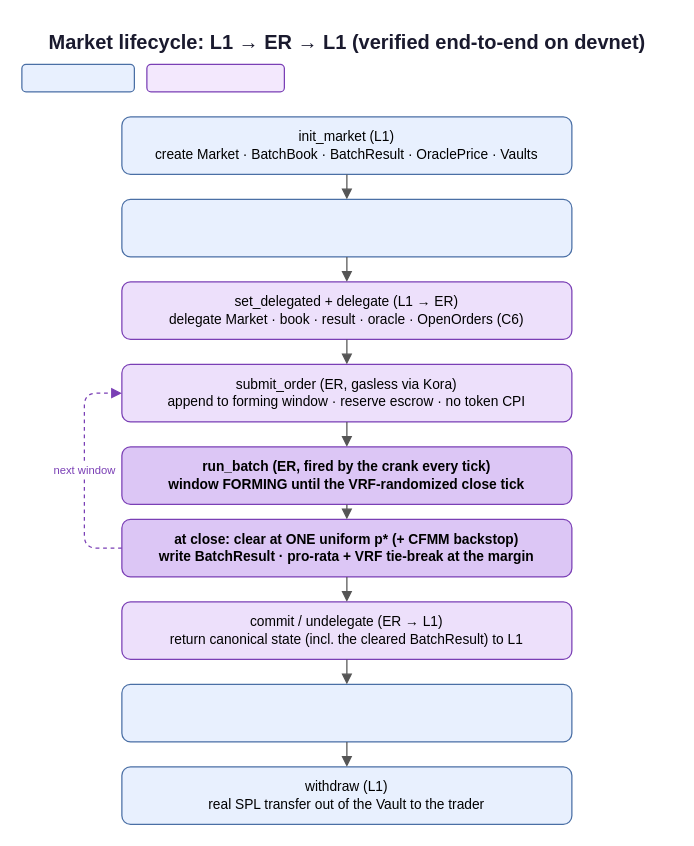
Some shapes in this 694 by 846 pixel diagram are drawn without their labels. Each missing label, with the centre of its shape:
"deposit (L1) escrow base/quote into Vaults → OpenOrders claimable" belongs at (x=346, y=227).
"ER (ephemeral)" belongs at (x=215, y=77).
"L1 (base)" belongs at (x=77, y=77).
"settle (L1) reconcile each trader at p* (fills + refund) → claimable" belongs at (x=346, y=712).
